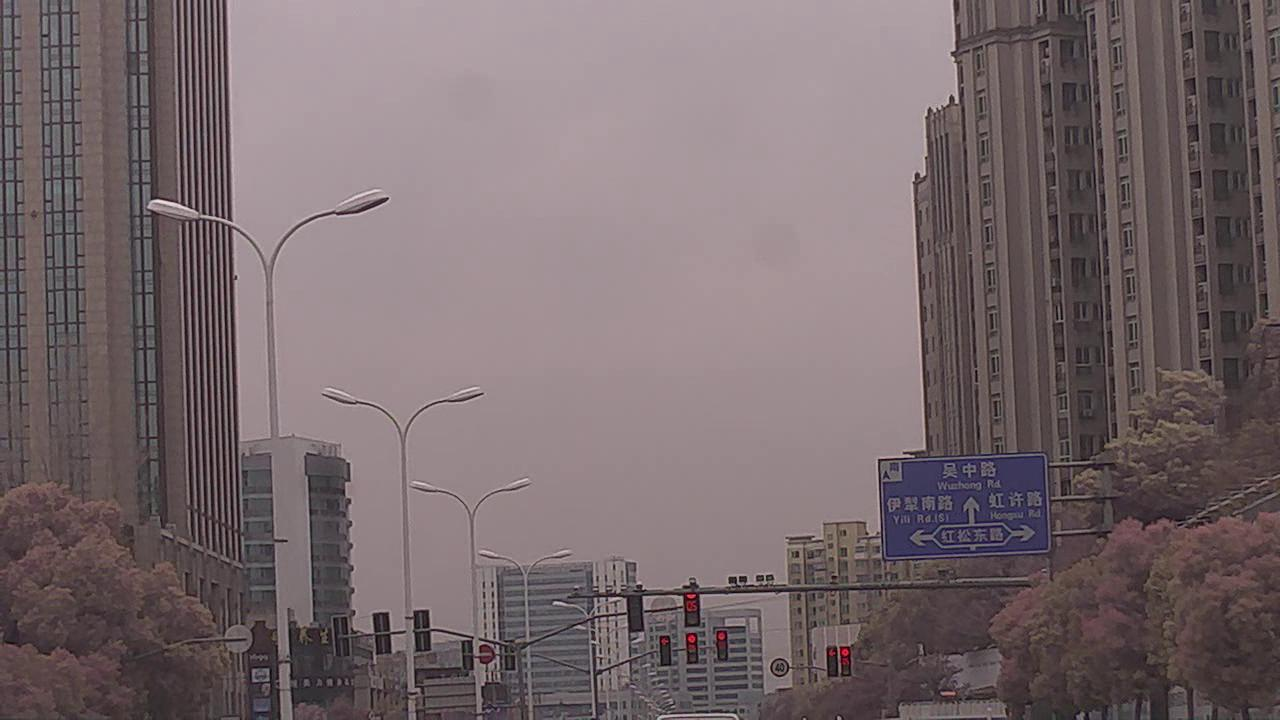traffic_light: (684, 585, 702, 628), (626, 589, 644, 632), (659, 633, 672, 667), (685, 634, 699, 663), (826, 645, 839, 676), (841, 644, 852, 676), (716, 630, 727, 661)
